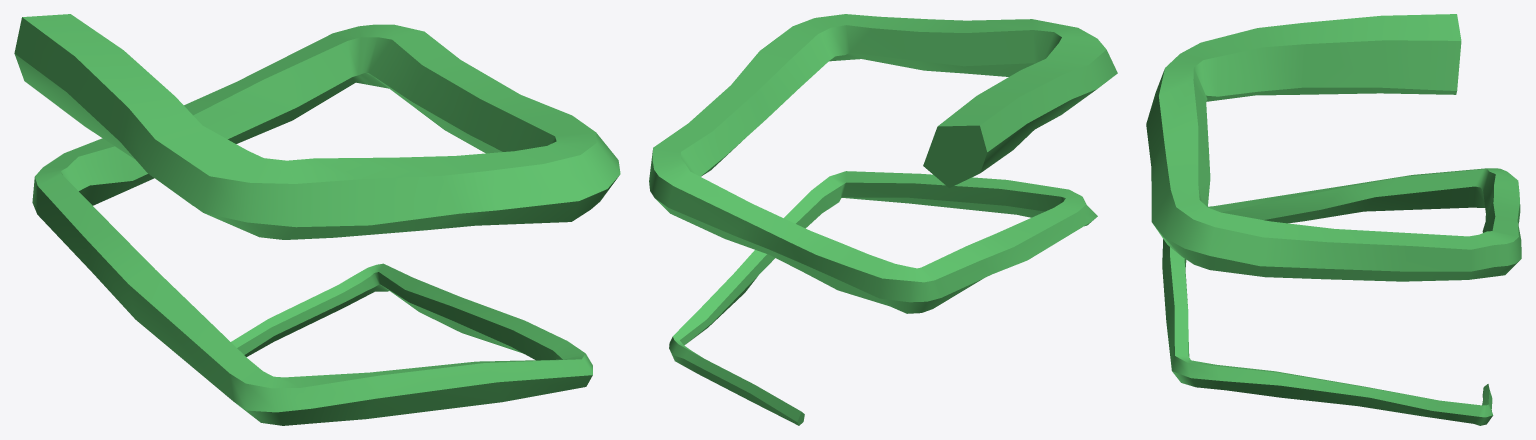
Rendered from roots_solo_D_C.fbx.
The picture shows the model from 3 angles, left to right: view 1: azimuth 30°, elevation 25°; view 2: azimuth 150°, elevation 25°; view 3: azimuth 270°, elevation 25°; orthographic projection. The views are drawn at different scales.
Visible parts, largest first — view 1: roots_solo_D_C; view 2: roots_solo_D_C; view 3: roots_solo_D_C.
Boxes of the visible parts, x1,y1,x2,y2 form: roots_solo_D_C: (14, 14, 620, 425); roots_solo_D_C: (649, 14, 1117, 425); roots_solo_D_C: (1146, 14, 1521, 425).
Bounding box in the file's own units: 89.27 × 81.18 × 89.16.
